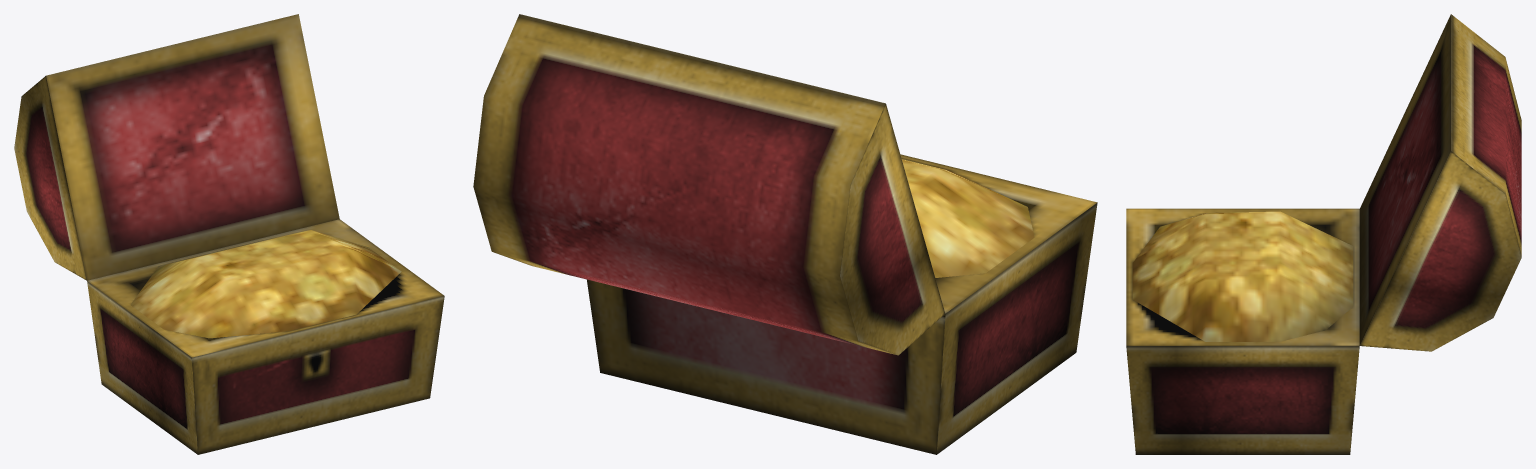
Rendered from Chestopened_atlas.fbx.
The picture shows the model from 3 angles, left to right: view 1: azimuth 30°, elevation 25°; view 2: azimuth 150°, elevation 25°; view 3: azimuth 270°, elevation 25°; orthographic projection. The views are drawn at different scales.
Visible parts, largest first — view 1: polySurface6; view 2: polySurface6; view 3: polySurface6.
Boxes of the visible parts, x1=… form: polySurface6: x1=14, y1=14, x2=444, y2=454; polySurface6: x1=473, y1=14, x2=1097, y2=454; polySurface6: x1=1126, y1=14, x2=1521, y2=454.
Bounding box in the file's own units: 0.6428 × 0.6758 × 0.7828.
